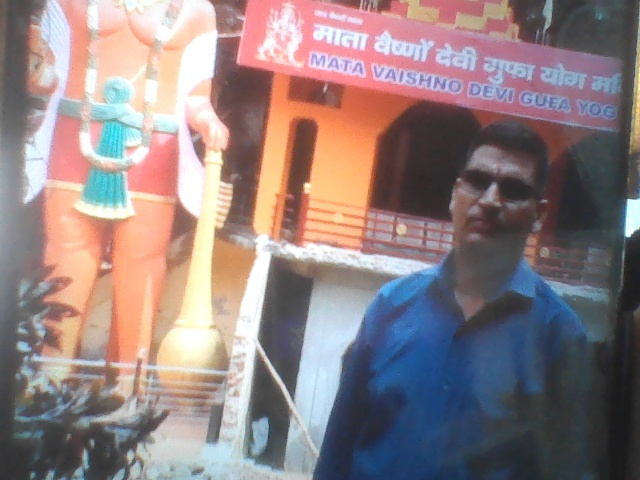fake: (439, 108, 555, 272)
